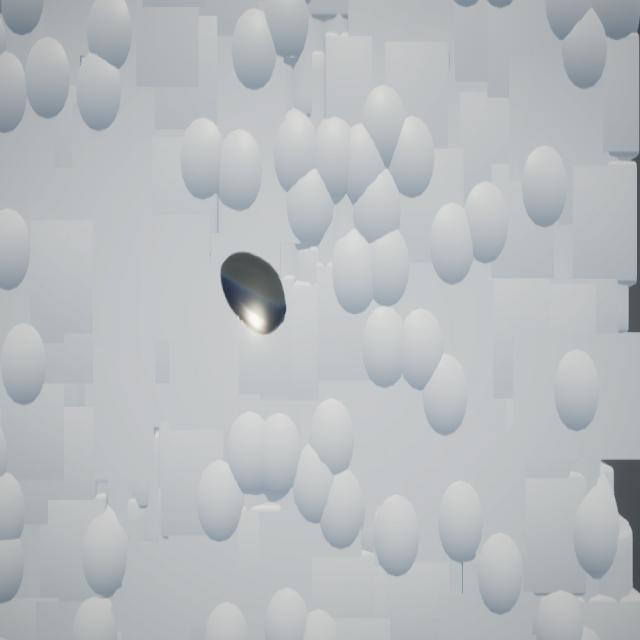top_spoon: (221, 252, 288, 337)
